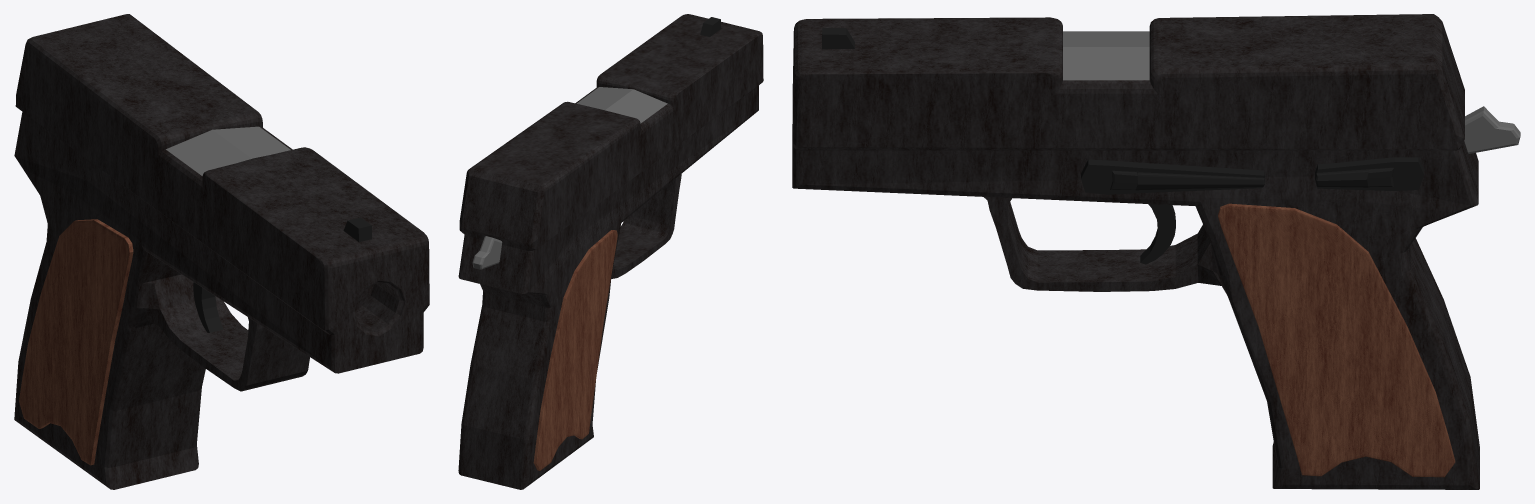
Rendered from arma pistola.glb.
The picture shows the model from 3 angles, left to right: view 1: azimuth 30°, elevation 25°; view 2: azimuth 150°, elevation 25°; view 3: azimuth 270°, elevation 25°; orthographic projection. The views are drawn at different scales.
Parts seen in each view (by area): view 1: base, mango, gatillo, mira; view 2: base, mango, zas; view 3: base, mango, gatillo 2, seguro, zas, gatillo.
Part boxes in pixels (x1,y1,x2,y2): base: (14,14,429,489); mango: (19,219,133,465); gatillo: (193,282,223,332); mira: (343,217,371,242); base: (458,14,763,489); mango: (533,230,617,470); zas: (472,236,502,269); base: (792,14,1479,489); mango: (1218,203,1455,477); gatillo 2: (1081,159,1264,194); seguro: (1315,157,1423,190); zas: (1464,106,1520,153); gatillo: (1140,204,1175,264).
Bounding box in the file's own units: 0.835 × 2.82 × 4.25.
Materials: 4 (2 with a texture image).
